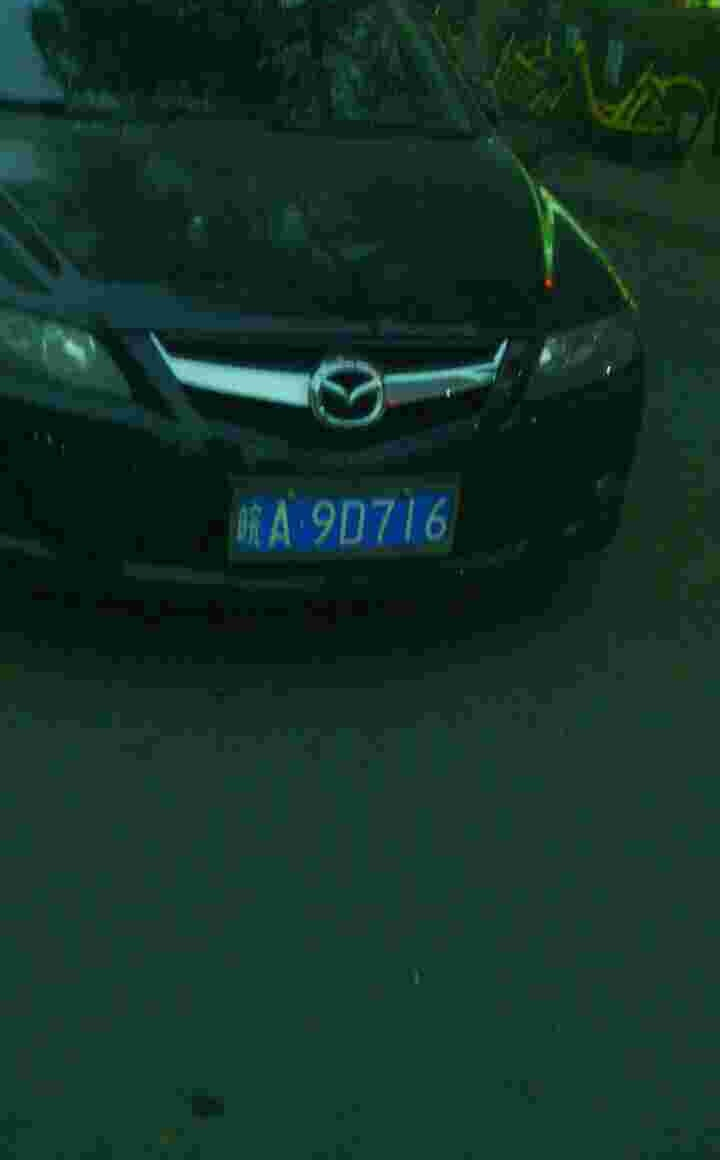license_plate: (236, 479, 471, 559)
